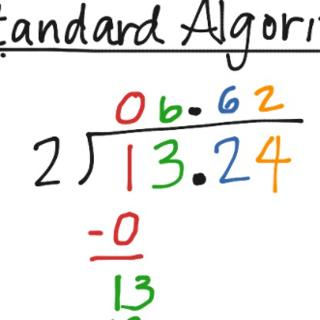.: (191, 168, 209, 190), (184, 101, 203, 118)
0: (105, 89, 148, 125), (106, 210, 144, 248)
1: (122, 141, 138, 192), (108, 270, 123, 314)
2: (18, 123, 63, 189), (207, 134, 252, 185), (252, 81, 285, 113)
3: (149, 137, 186, 192), (126, 269, 160, 313)
4: (252, 128, 291, 195)
6: (212, 79, 242, 117), (157, 90, 181, 124)
